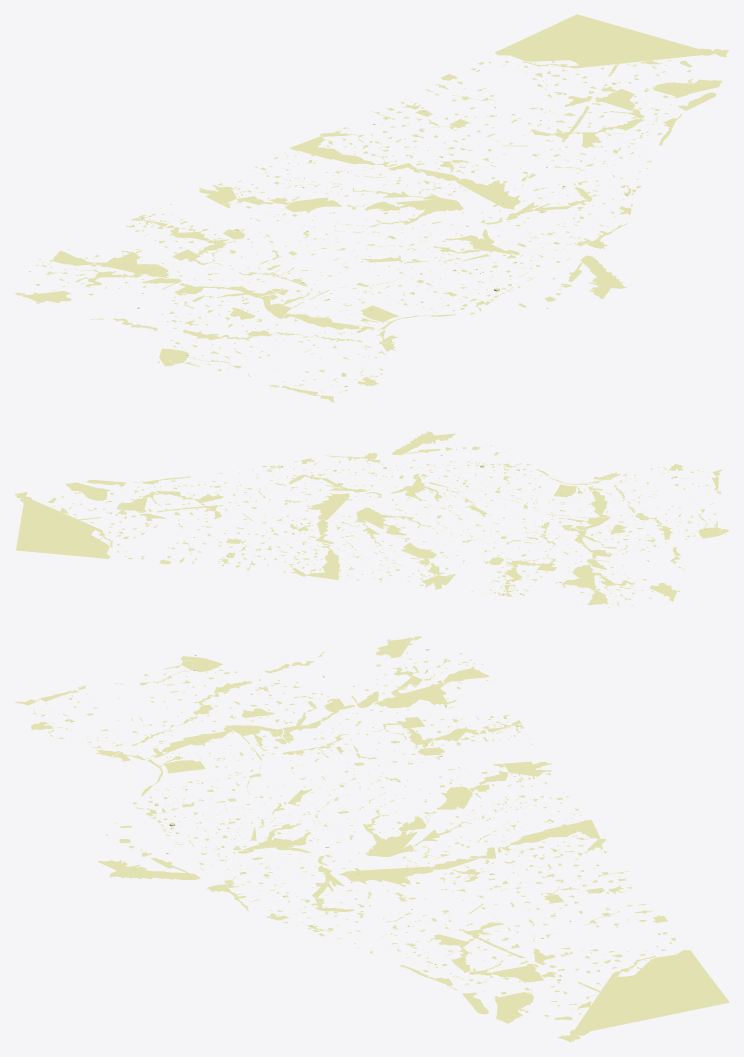
The model's file is leisure.fbx.
The picture shows the model from 3 angles, top to bottom: view 1: azimuth 30°, elevation 25°; view 2: azimuth 150°, elevation 25°; view 3: azimuth 270°, elevation 25°; orthographic projection. The views are drawn at different scales.
Visible parts, largest first — view 1: leisure; view 2: leisure; view 3: leisure.
Boxes of the visible parts, bbox=[...] form: leisure: bbox=[15, 14, 729, 402]; leisure: bbox=[15, 431, 729, 607]; leisure: bbox=[15, 636, 729, 1042].
Bounding box in the file's own units: 57081 × 99.85 × 42476.
